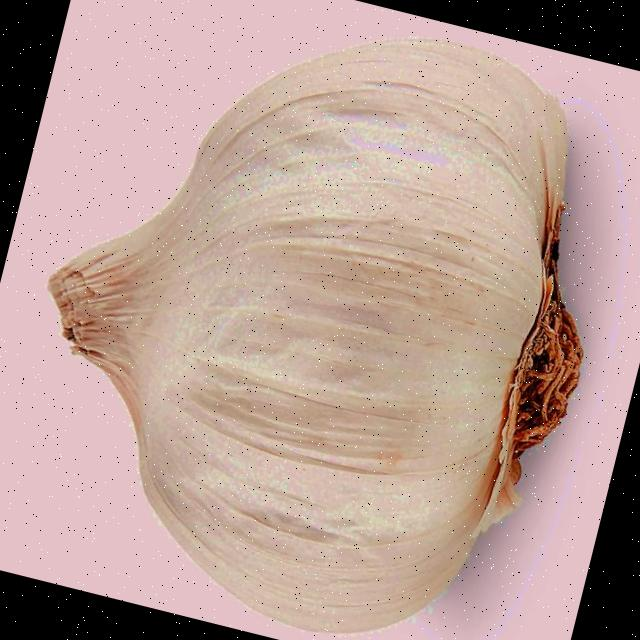garlic: (48, 39, 582, 631)
